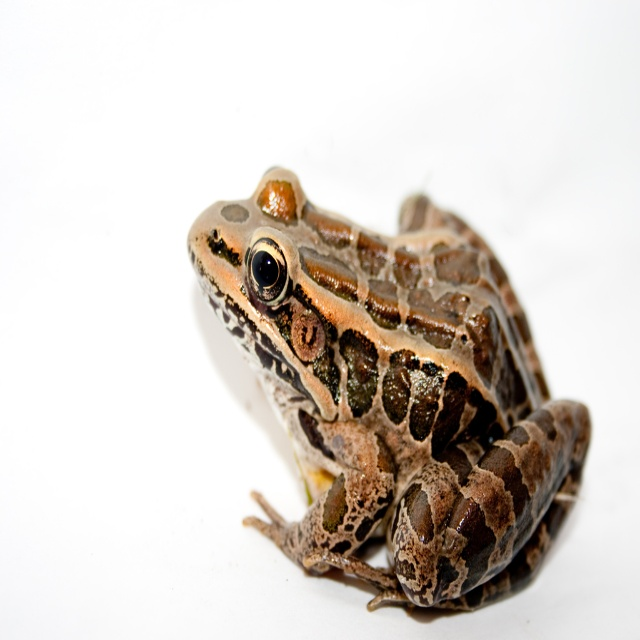Frog: (186, 162, 592, 611)
